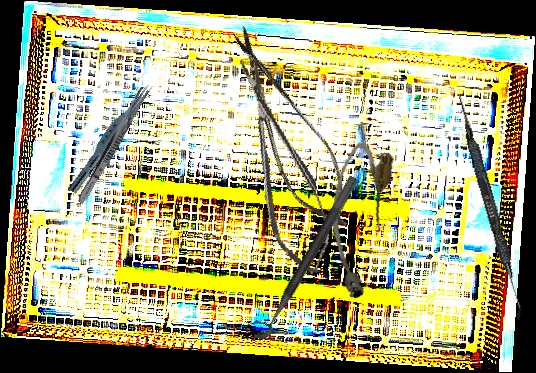Cannula: (318, 139, 396, 303)
Dressing Forceps: (75, 85, 150, 206)
Fixation Ring: (242, 167, 360, 344)
Micro Scissor: (210, 16, 368, 244), (228, 53, 339, 281)
Spatula Surgical: (449, 93, 532, 321)
Tissue Forceps: (67, 79, 156, 199)
